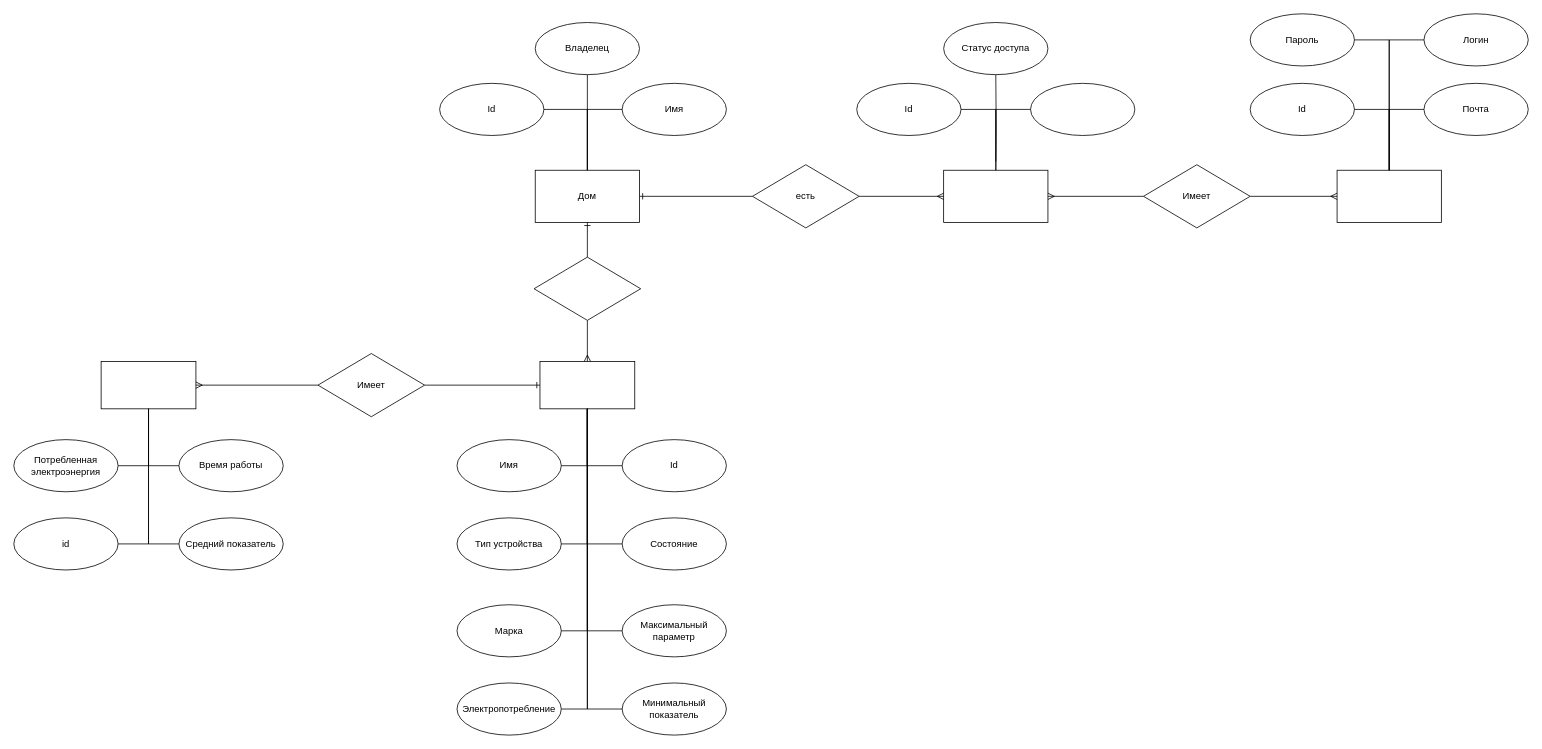
The diagram is 1542 pixels wide and 749 high, and some of its shapes have lost their labels. Each missing label, with the centre of its shape:
Владеет: the point at 587,288
Доступ к дому: the point at 995,195
История работы устройства: the point at 148,385
Пользователь: the point at 1388,195
Уровень доступа: the point at 1082,109
Устройство: the point at 587,385
